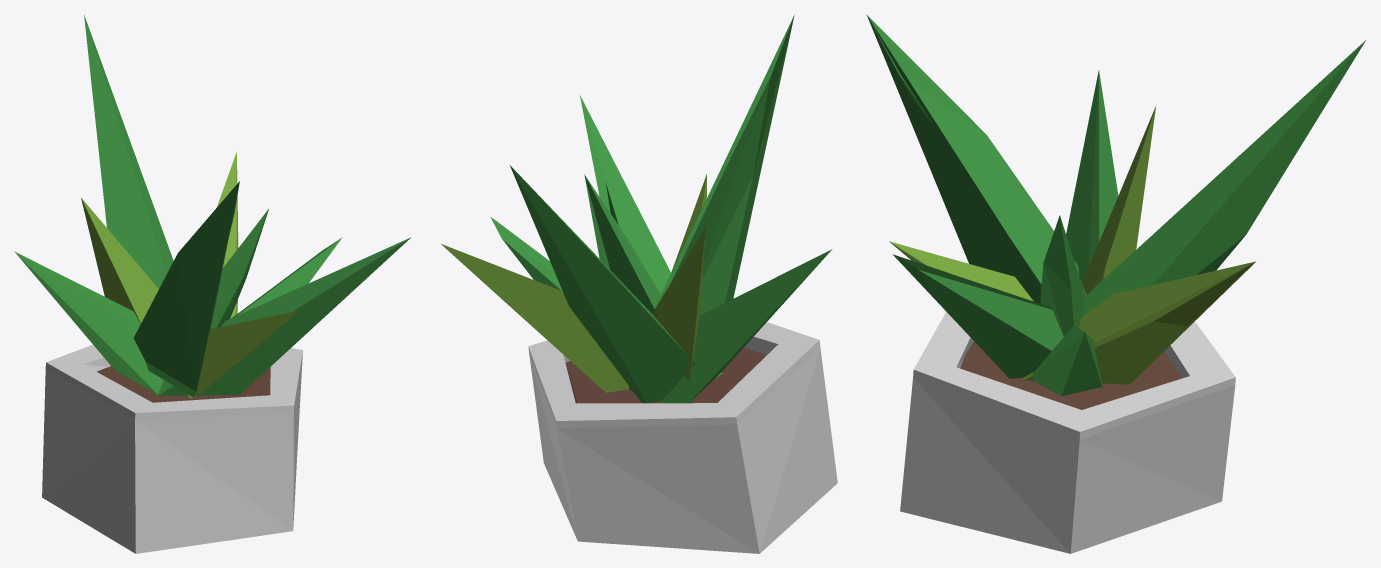
3 views of the same model, side by side, from view 1: azimuth 30°, elevation 25°; view 2: azimuth 150°, elevation 25°; view 3: azimuth 270°, elevation 25° (orthographic). The views are drawn at different scales.
Visible parts, largest first — view 1: node_MeshObject532760576-PolyPaper10; view 2: node_MeshObject532760576-PolyPaper10; view 3: node_MeshObject532760576-PolyPaper10.
Boxes of the visible parts, box(x1,y1,x2,y2) form: node_MeshObject532760576-PolyPaper10: box(14, 15, 410, 553); node_MeshObject532760576-PolyPaper10: box(441, 15, 837, 553); node_MeshObject532760576-PolyPaper10: box(867, 15, 1365, 553).
Bounding box in the file's own units: 0.2494 × 0.2877 × 0.2799.
